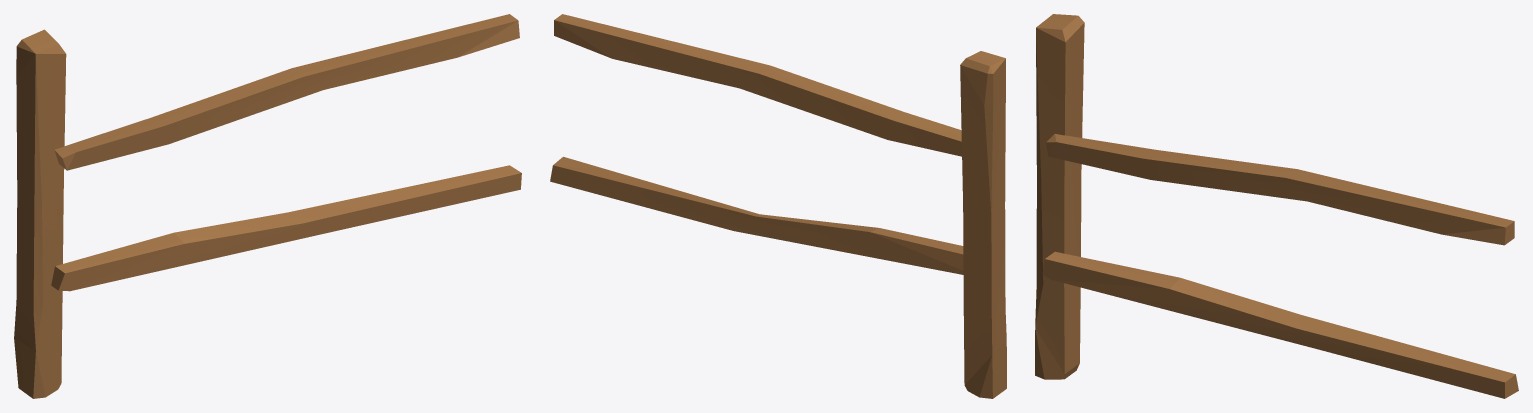
Rendered from Fence_WoodA_B.fbx.
3 views of the same model, side by side, from view 1: azimuth 30°, elevation 25°; view 2: azimuth 150°, elevation 25°; view 3: azimuth 330°, elevation 25° (orthographic). The views are drawn at different scales.
Visible parts, largest first — view 1: Fence_WoodA_B; view 2: Fence_WoodA_B; view 3: Fence_WoodA_B.
Part boxes in pixels (x1,y1,x2,y2): Fence_WoodA_B: (14,14,521,398); Fence_WoodA_B: (550,14,1006,398); Fence_WoodA_B: (1035,14,1518,398).
Bounding box in the file's own units: 221 × 154 × 23.28.
